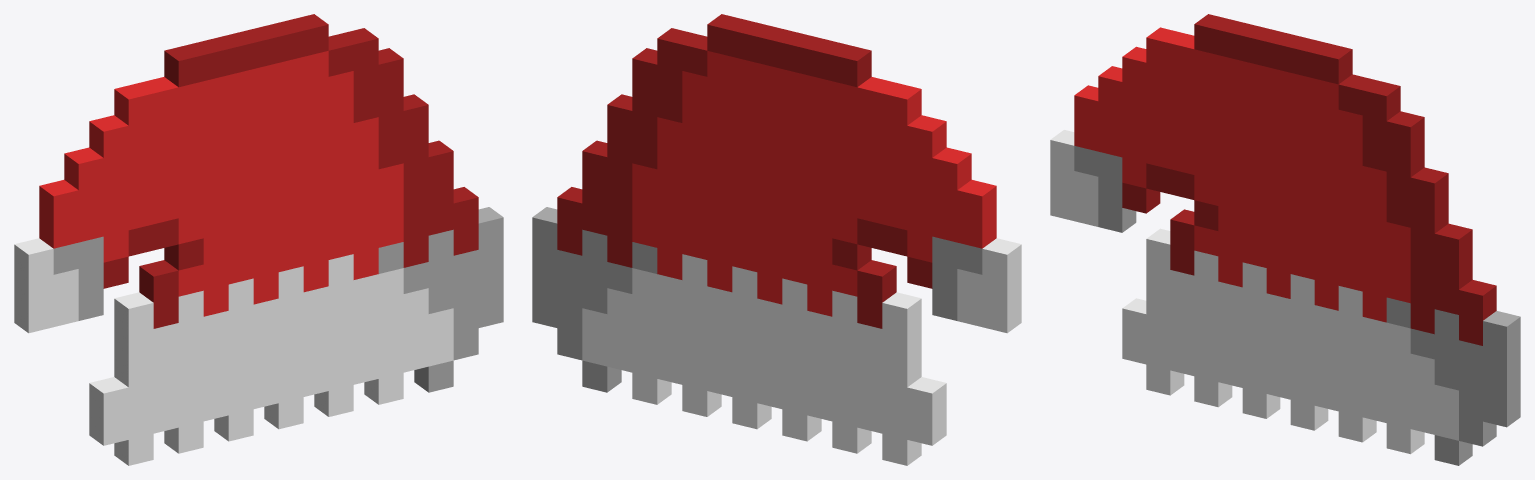
File: p_hat_voxel.fbx
3 renders of one model, left to right at view 1: azimuth 30°, elevation 25°; view 2: azimuth 150°, elevation 25°; view 3: azimuth 330°, elevation 25°, orthographic. The views are drawn at different scales.
Parts seen in each view (by area): view 1: Voxels.hat.002, Voxels.hat.021, Voxels.hat.060, Voxels.hat.007, Voxels.hat.013, Voxels.hat.015, Voxels.hat.027, Voxels.hat.039, Voxels.hat.033, Voxels.hat, Voxels.hat.026, Voxels.hat.001 (+190 smaller); view 2: Voxels.hat.002, Voxels.hat.021, Voxels.hat.060, Voxels.hat.007, Voxels.hat.013, Voxels.hat.015, Voxels.hat.027, Voxels.hat.039, Voxels.hat.033, Voxels.hat, Voxels.hat.026, Voxels.hat.001 (+190 smaller); view 3: Voxels.hat.132, Voxels.hat.191, Voxels.hat.172, Voxels.hat.159, Voxels.hat.182, Voxels.hat.201, Voxels.hat.197, Voxels.hat.181, Voxels.hat.190, Voxels.hat.171, Voxels.hat.146, Voxels.hat.199 (+190 smaller).
Part boxes in pixels (left/top/right/bottom): Voxels.hat.002: left=14, top=238, right=53, bottom=280; Voxels.hat.021: left=89, top=115, right=128, bottom=157; Voxels.hat.060: left=164, top=44, right=203, bottom=87; Voxels.hat.007: left=39, top=180, right=78, bottom=222; Voxels.hat.013: left=64, top=147, right=103, bottom=190; Voxels.hat.015: left=89, top=377, right=128, bottom=419; Voxels.hat.027: left=114, top=292, right=153, bottom=334; Voxels.hat.039: left=139, top=260, right=178, bottom=302; Voxels.hat.033: left=114, top=83, right=153, bottom=125; Voxels.hat: left=14, top=297, right=53, bottom=333; Voxels.hat.026: left=114, top=325, right=153, bottom=361; Voxels.hat.001: left=14, top=271, right=53, bottom=306; Voxels.hat.002: left=982, top=238, right=1021, bottom=280; Voxels.hat.021: left=907, top=115, right=946, bottom=157; Voxels.hat.060: left=832, top=44, right=871, bottom=87; Voxels.hat.007: left=957, top=180, right=996, bottom=222; Voxels.hat.013: left=932, top=147, right=971, bottom=190; Voxels.hat.015: left=907, top=377, right=946, bottom=419; Voxels.hat.027: left=882, top=292, right=921, bottom=334; Voxels.hat.039: left=857, top=260, right=896, bottom=302; Voxels.hat.033: left=882, top=83, right=921, bottom=125; Voxels.hat: left=982, top=297, right=1021, bottom=333; Voxels.hat.026: left=882, top=325, right=921, bottom=361; Voxels.hat.001: left=982, top=271, right=1021, bottom=306; Voxels.hat.132: left=1314, top=43, right=1352, bottom=84; Voxels.hat.191: left=1434, top=223, right=1472, bottom=264; Voxels.hat.172: left=1386, top=111, right=1424, bottom=152; Voxels.hat.159: left=1362, top=80, right=1400, bottom=121; Voxels.hat.182: left=1410, top=167, right=1448, bottom=208; Voxels.hat.201: left=1483, top=311, right=1520, bottom=351; Voxels.hat.197: left=1459, top=280, right=1496, bottom=320; Voxels.hat.181: left=1410, top=198, right=1448, bottom=233; Voxels.hat.190: left=1434, top=255, right=1472, bottom=289; Voxels.hat.171: left=1386, top=142, right=1424, bottom=177; Voxels.hat.146: left=1338, top=74, right=1376, bottom=115; Voxels.hat.199: left=1483, top=367, right=1520, bottom=401.
Size of the model in its own units: 1.89 by 1.5 by 0.0997.
